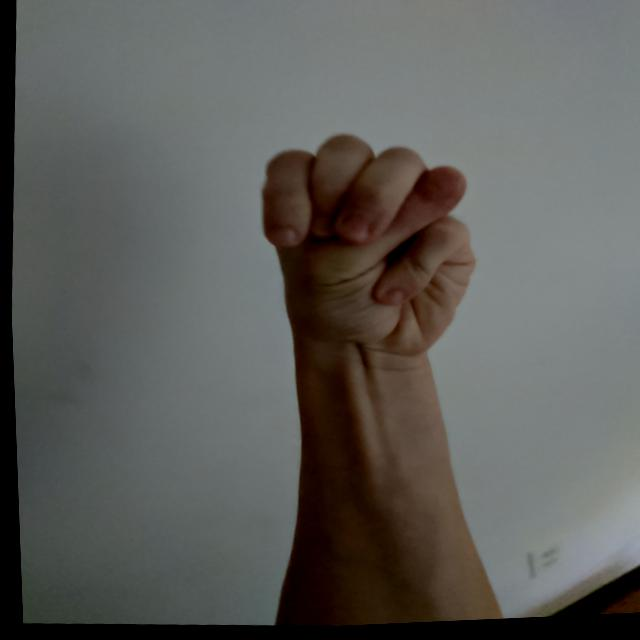M: (242, 121, 492, 375)
